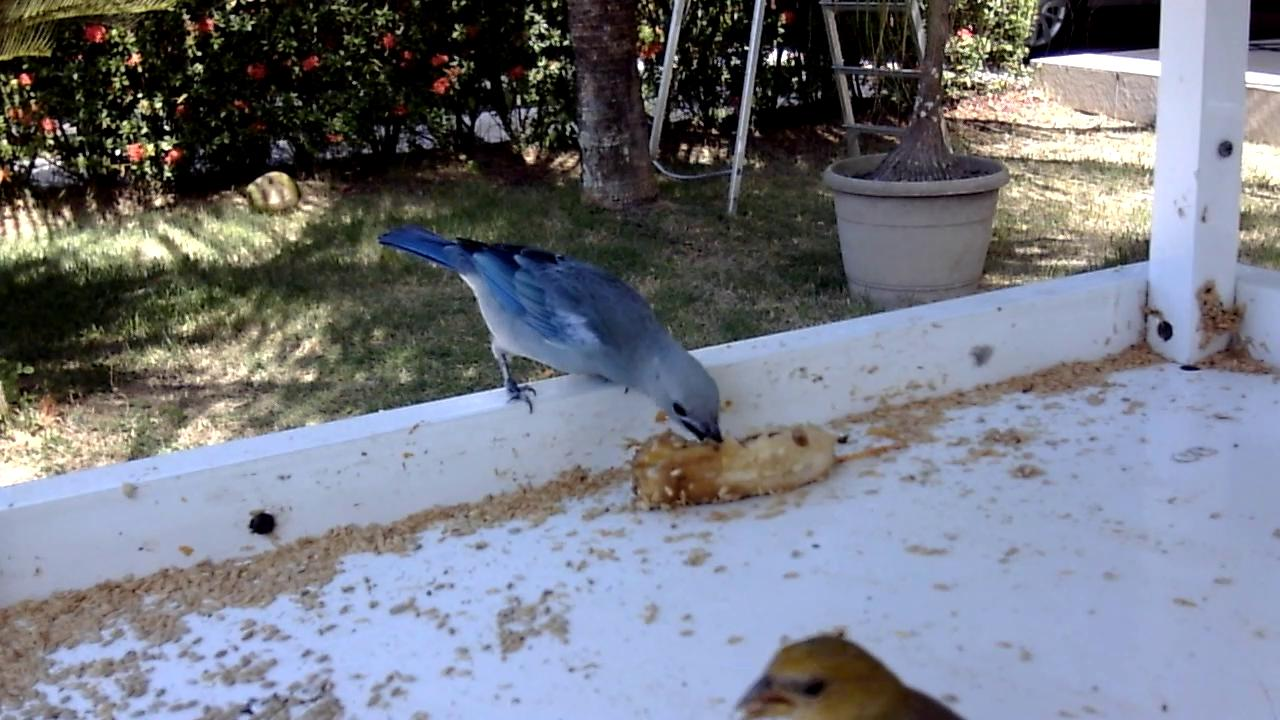canario_do_amazonas: (727, 630, 966, 720)
sanhaco_da_amazonia: (378, 224, 728, 448)
